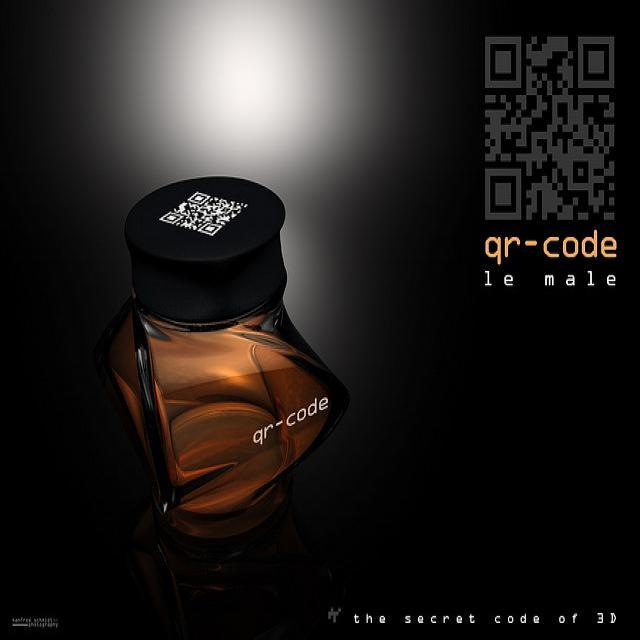qrcode: (486, 37, 615, 220), (160, 191, 248, 237)
